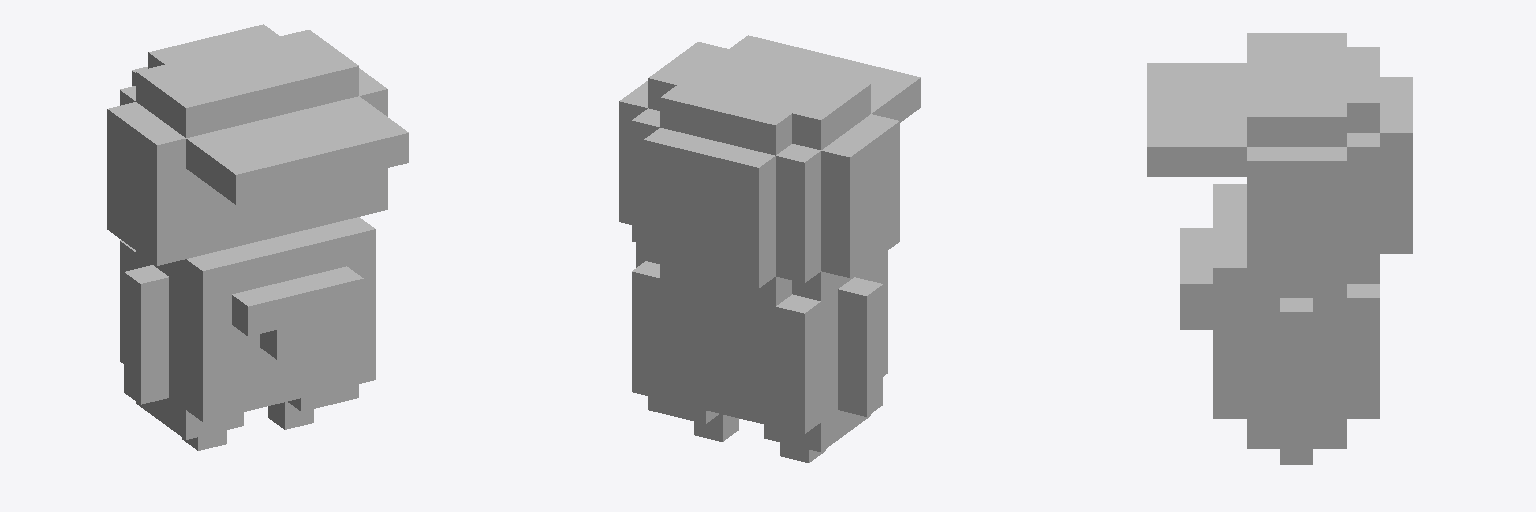
The model's file is chr_beardo2.obj.
3 renders of one model, left to right at view 1: azimuth 30°, elevation 25°; view 2: azimuth 150°, elevation 25°; view 3: azimuth 270°, elevation 25°, orthographic.
Parts seen in each view (by area): view 1: object 1; view 2: object 1; view 3: object 1.
Boxes of the visible parts, box(x1,y1,x2,y2) form: object 1: box(107, 24, 408, 450); object 1: box(619, 35, 920, 462); object 1: box(1147, 33, 1412, 464).
Size of the model in its own units: 0.8 by 1.2 by 0.8.